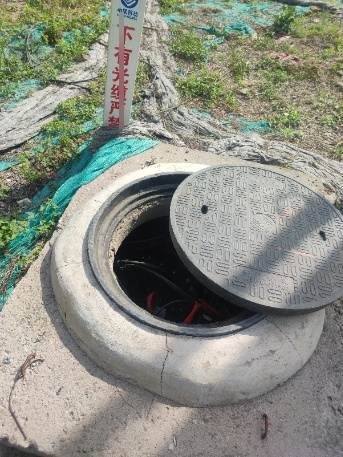uncovered: (83, 166, 343, 338)
